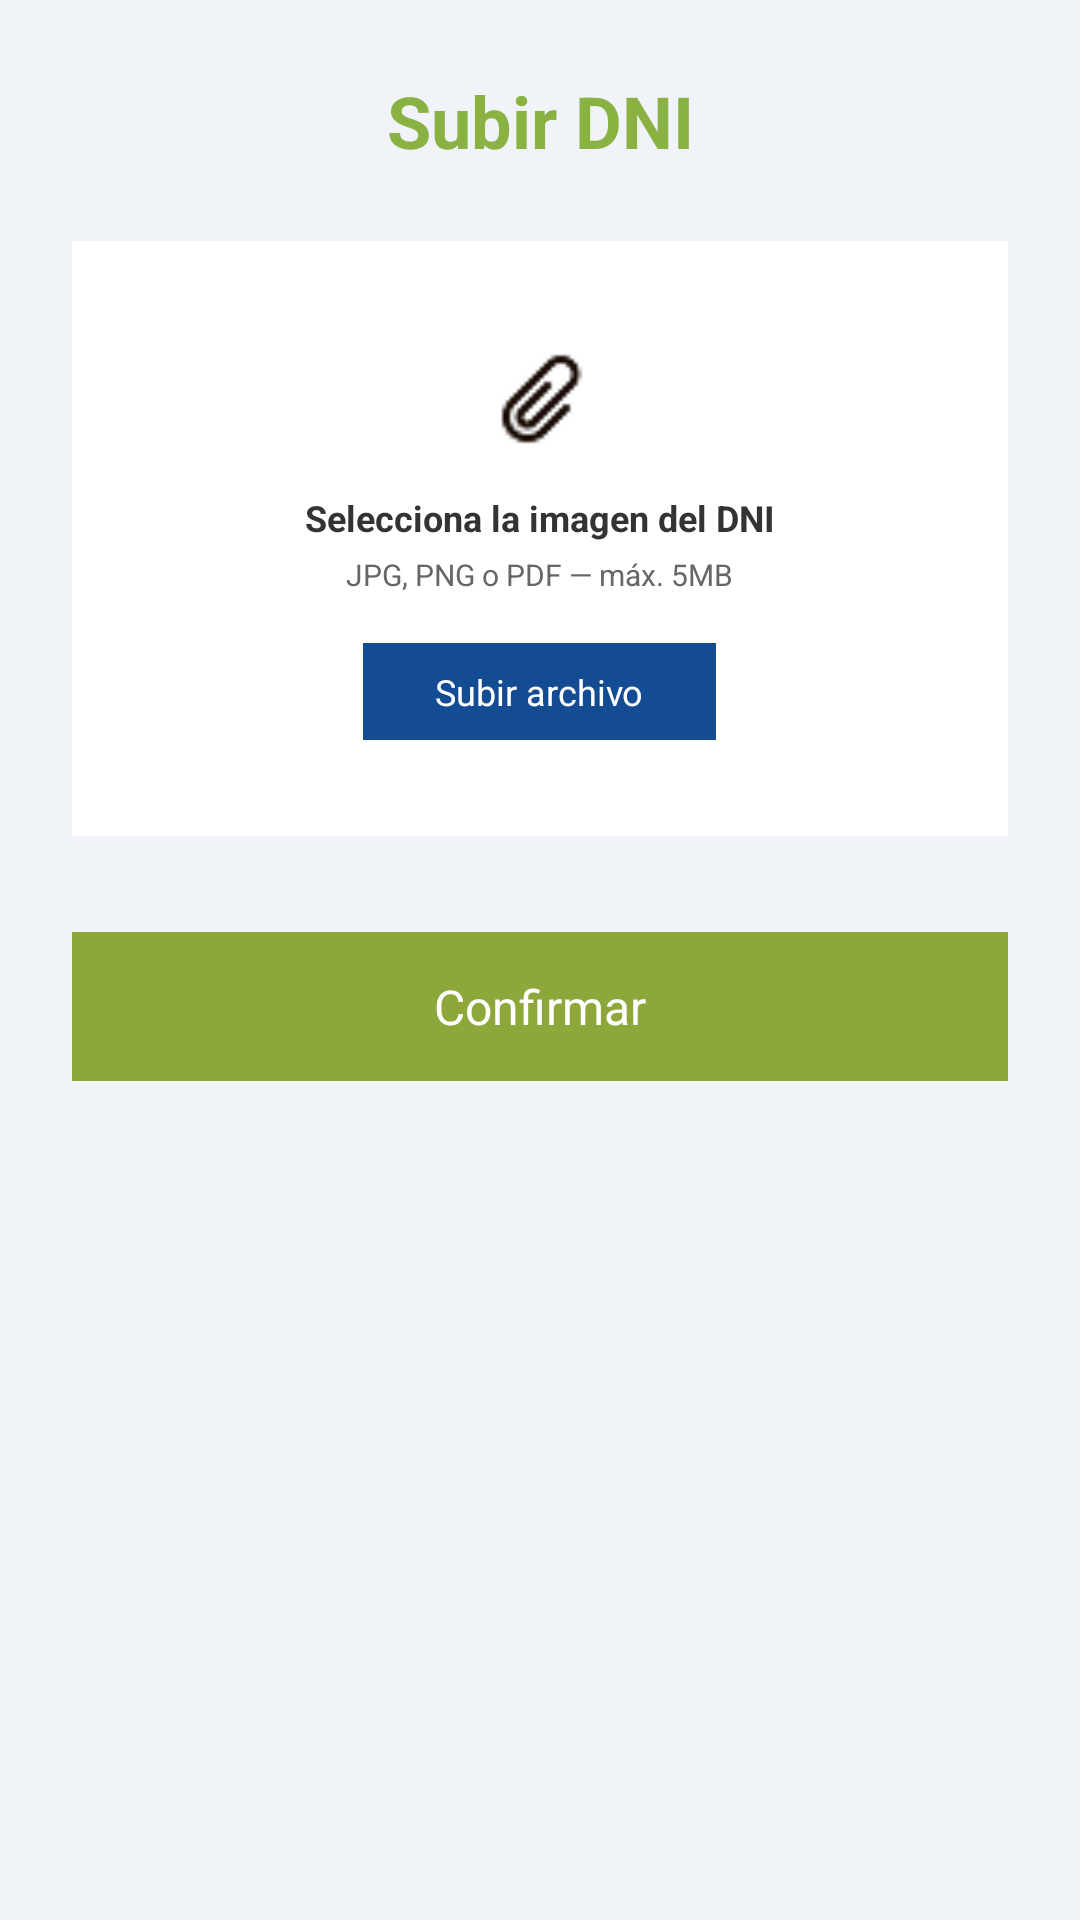

Icons on this 1080px x 1920px Android screen, each with the point to tap as (x=x, y=y):
subir arxivos: (x=541, y=399)
